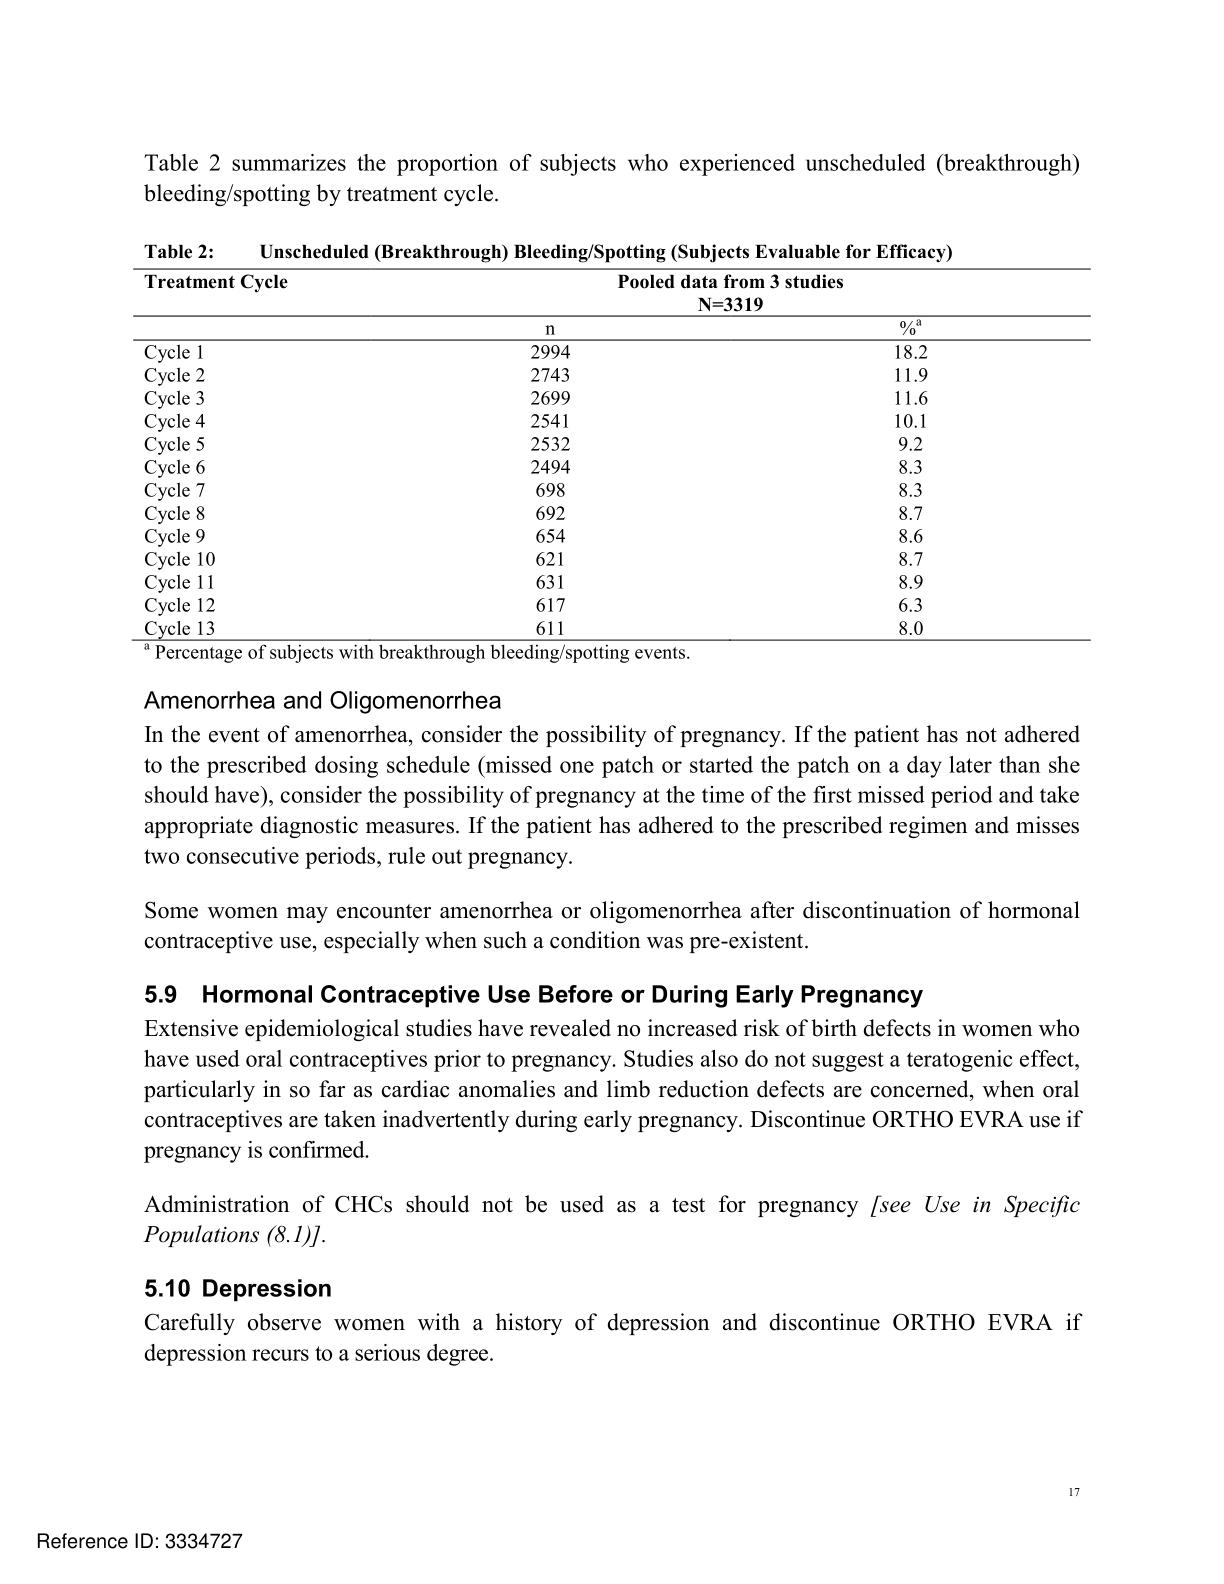partial_lined_merged_cells: (132, 267, 1092, 643)
